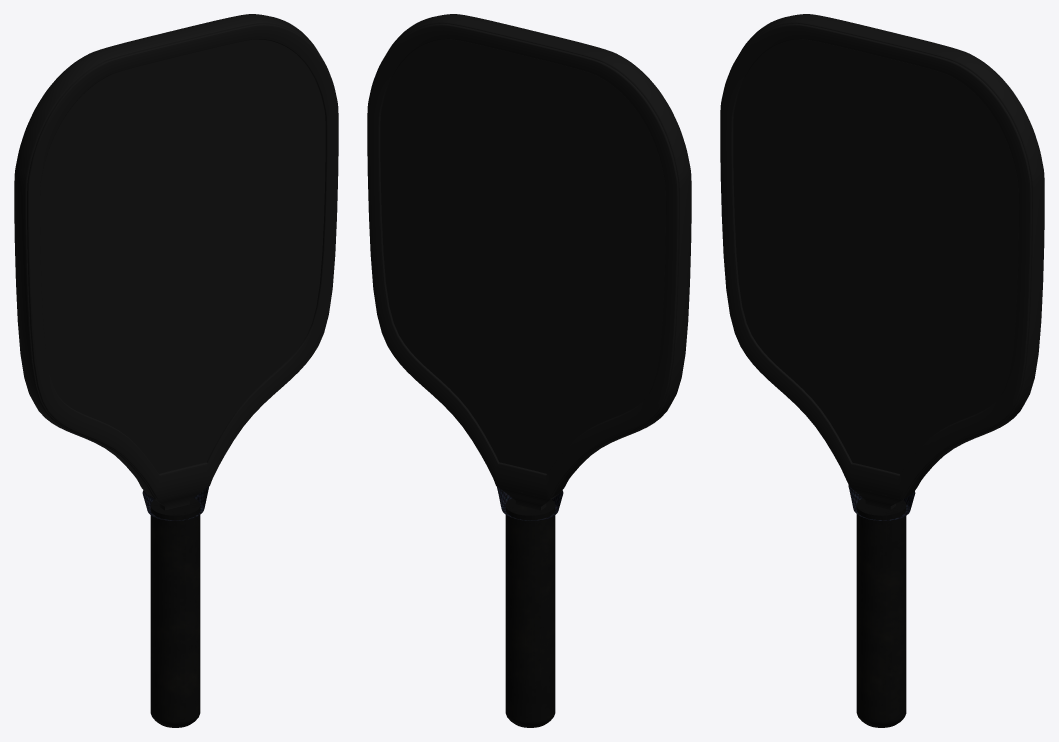
The model's file is pickleball_paddle.glb.
3 renders of one model, left to right at view 1: azimuth 30°, elevation 25°; view 2: azimuth 150°, elevation 25°; view 3: azimuth 330°, elevation 25°, orthographic.
Parts seen in each view (by area): view 1: Plane_0, Cylinder_1; view 2: Plane_0, Cylinder_1; view 3: Plane_0, Cylinder_1.
Part boxes in pixels (x1,y1,x2,y2): Plane_0: (14,14,338,510); Cylinder_1: (142,486,209,727); Plane_0: (367,14,691,510); Cylinder_1: (496,486,563,727); Plane_0: (720,14,1044,509); Cylinder_1: (848,485,915,727).
Bounding box in the file's own units: 0.1974 × 0.4095 × 0.0292.
3 materials, 2 textured.
